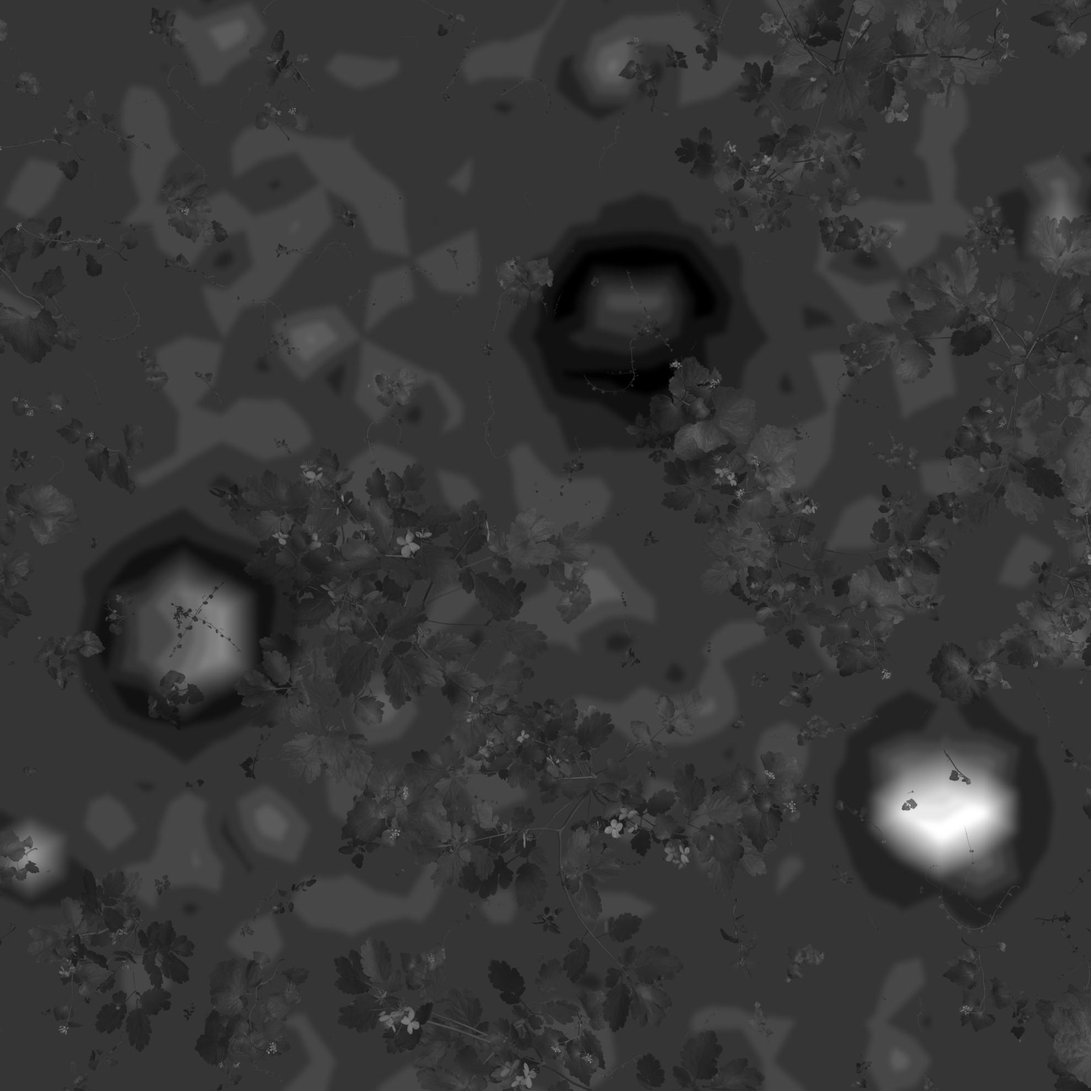landmine: (104, 542, 269, 717), (868, 729, 1031, 885), (564, 238, 700, 370)
